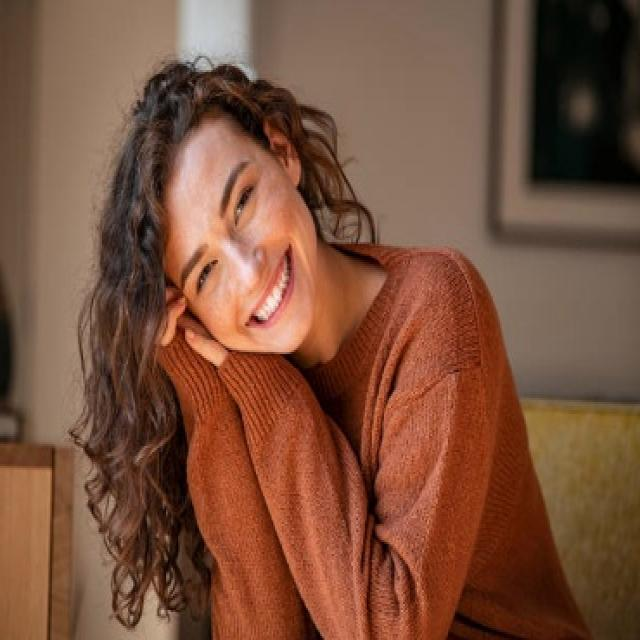adult: (80, 48, 547, 640)
